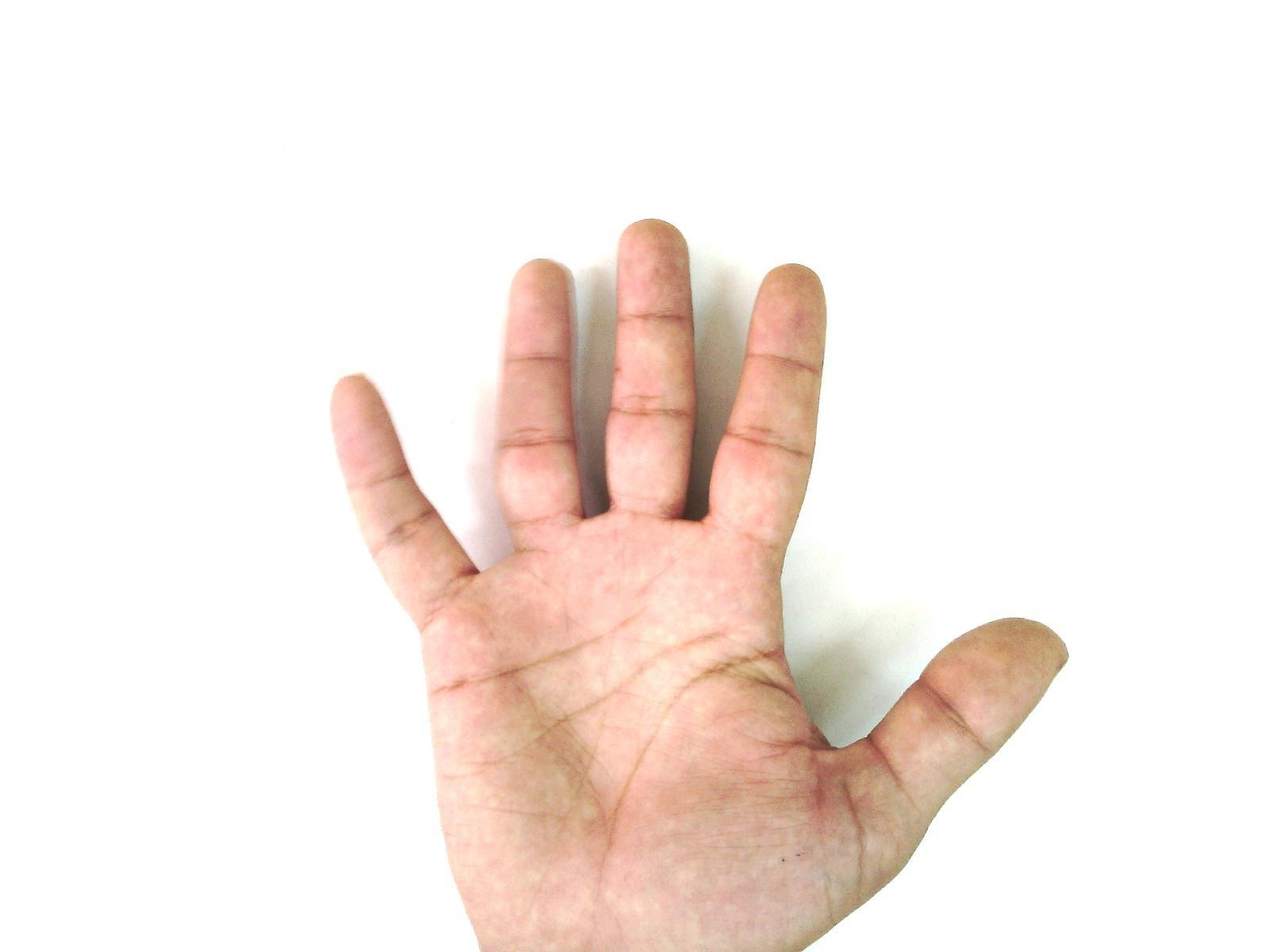open_palm: (326, 217, 1071, 951)
